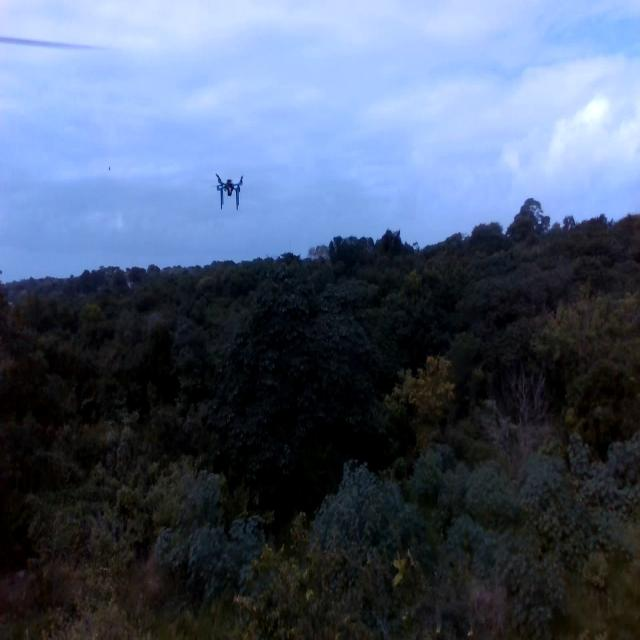-uav-: (213, 164, 246, 218)
